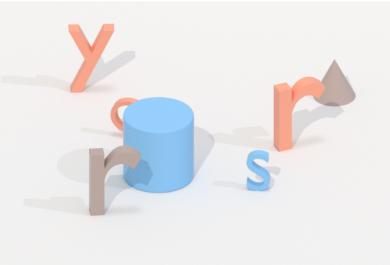0-KhoiTru: (122, 97, 198, 191)
0-TamGiac: (314, 55, 358, 109)
S: (242, 146, 274, 194)
r: (267, 74, 326, 153), (86, 143, 140, 220)
y: (62, 19, 117, 97)
